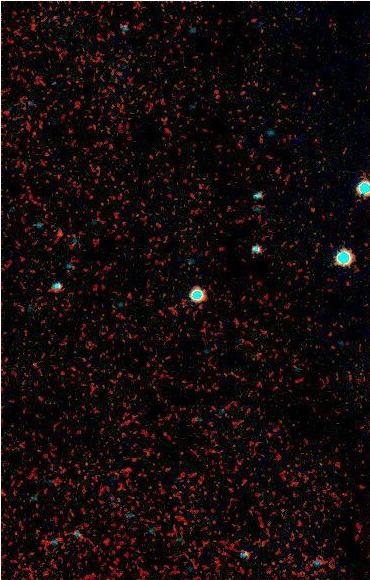star: (38, 216, 68, 246)
